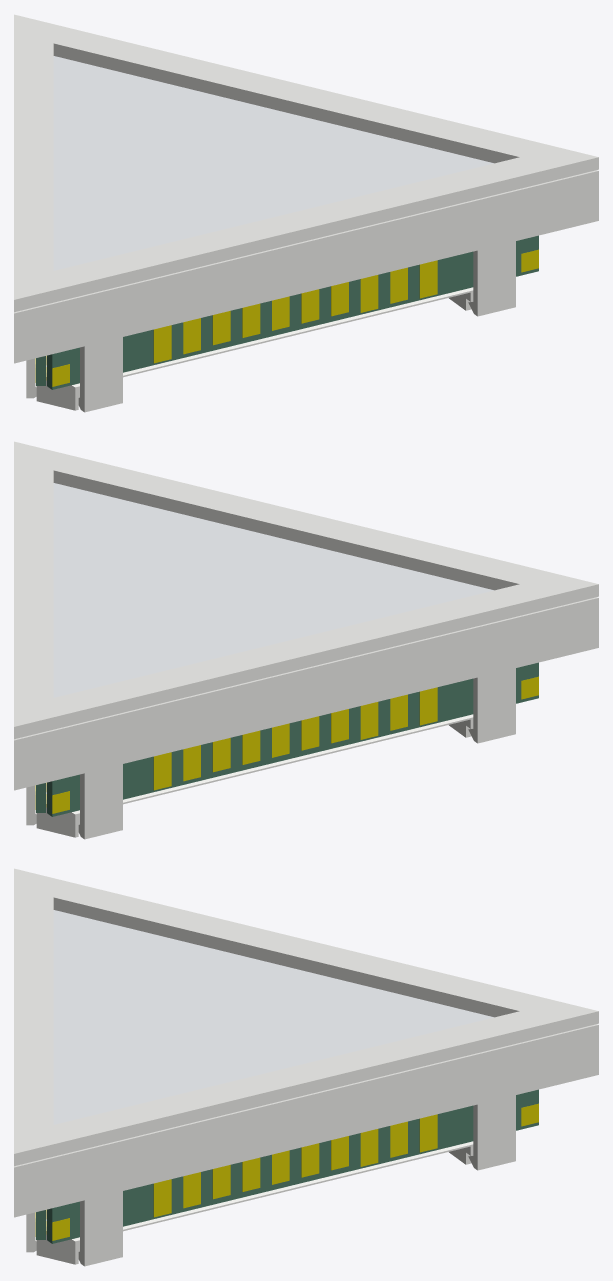
Rendered from panel_triangle.glb.
3 views of the same model, one above another, from view 1: azimuth 30°, elevation 25°; view 2: azimuth 150°, elevation 25°; view 3: azimuth 270°, elevation 25° (orthographic).
Visible parts, largest first — view 1: Film, Bezel, Frame, edge-board-triangle_PCB, Back plate, edge-board-triangle_copper (66), edge-board-triangle_copper (68), edge-board-triangle_copper (67), edge-board-triangle_copper (5), edge-board-triangle_copper (6), edge-board-triangle_copper (24), edge-board-triangle_copper (51) (+3 smaller); view 2: Film, Bezel, Frame, edge-board-triangle_PCB, Back plate, edge-board-triangle_copper (66), edge-board-triangle_copper (68), edge-board-triangle_copper (67), edge-board-triangle_copper (5), edge-board-triangle_copper (6), edge-board-triangle_copper (24), edge-board-triangle_copper (51) (+3 smaller); view 3: Film, Bezel, Frame, edge-board-triangle_PCB, Back plate, edge-board-triangle_copper (66), edge-board-triangle_copper (68), edge-board-triangle_copper (67), edge-board-triangle_copper (5), edge-board-triangle_copper (6), edge-board-triangle_copper (24), edge-board-triangle_copper (51) (+3 smaller).
Boxes of the visible parts, <box> form: Film: <box>53,56,493,270</box>; Bezel: <box>14,14,598,312</box>; Frame: <box>14,170,598,412</box>; edge-board-triangle_PCB: <box>47,235,538,389</box>; Back plate: <box>36,287,473,410</box>; edge-board-triangle_copper (66): <box>419,260,437,298</box>; edge-board-triangle_copper (68): <box>153,325,171,363</box>; edge-board-triangle_copper (67): <box>360,275,378,312</box>; edge-board-triangle_copper (5): <box>390,267,407,303</box>; edge-board-triangle_copper (6): <box>183,318,200,354</box>; edge-board-triangle_copper (24): <box>301,289,319,323</box>; edge-board-triangle_copper (51): <box>242,303,260,337</box>; Film: <box>53,483,493,697</box>; Bezel: <box>14,441,598,739</box>; Frame: <box>14,597,598,839</box>; edge-board-triangle_PCB: <box>47,662,538,816</box>; Back plate: <box>36,714,473,837</box>; edge-board-triangle_copper (66): <box>419,687,437,725</box>; edge-board-triangle_copper (68): <box>153,752,171,790</box>; edge-board-triangle_copper (67): <box>360,702,378,739</box>; edge-board-triangle_copper (5): <box>390,694,407,730</box>; edge-board-triangle_copper (6): <box>183,745,200,781</box>; edge-board-triangle_copper (24): <box>301,716,319,750</box>; edge-board-triangle_copper (51): <box>242,730,260,764</box>; Film: <box>53,910,493,1124</box>; Bezel: <box>14,868,598,1166</box>; Frame: <box>14,1024,598,1266</box>; edge-board-triangle_PCB: <box>47,1089,538,1243</box>; Back plate: <box>36,1141,473,1264</box>; edge-board-triangle_copper (66): <box>419,1114,437,1152</box>; edge-board-triangle_copper (68): <box>153,1179,171,1217</box>; edge-board-triangle_copper (67): <box>360,1129,378,1166</box>; edge-board-triangle_copper (5): <box>390,1121,407,1157</box>; edge-board-triangle_copper (6): <box>183,1172,200,1208</box>; edge-board-triangle_copper (24): <box>301,1143,319,1177</box>; edge-board-triangle_copper (51): <box>242,1157,260,1191</box>.
Bounding box in the file's own units: 0.099 × 0.0221 × 0.0857.
